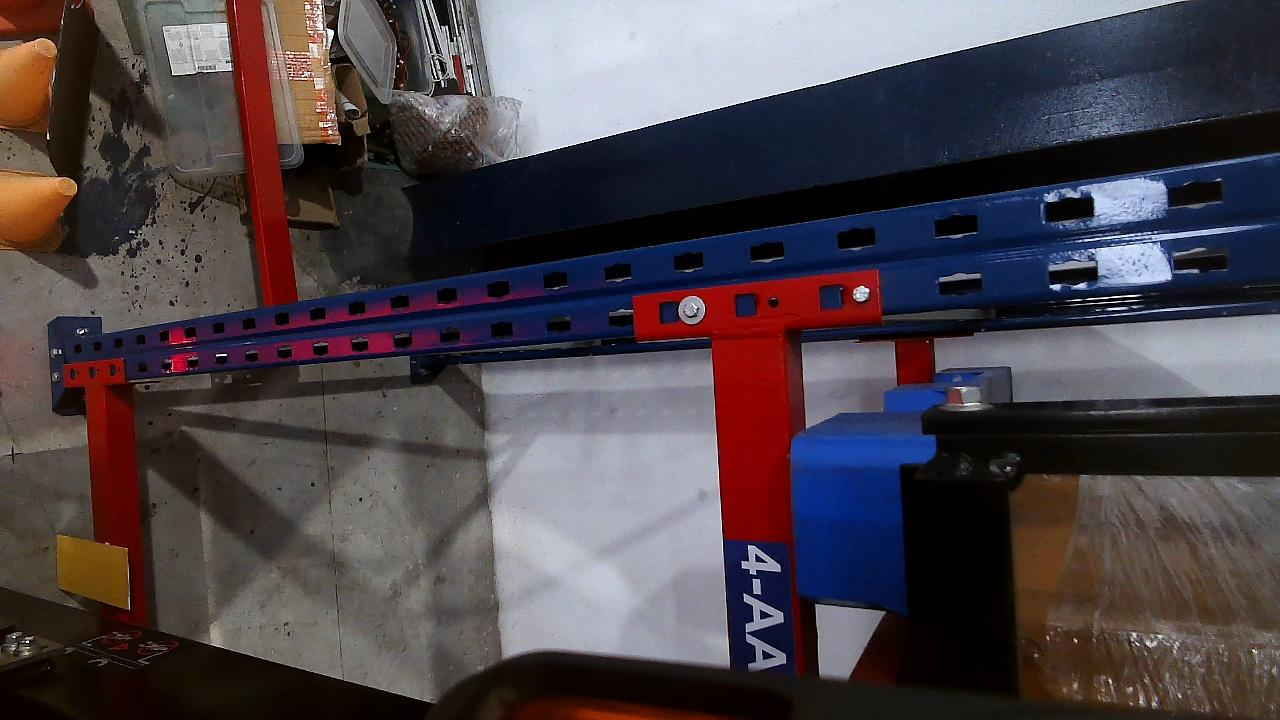h_rack: (710, 332, 797, 675), (84, 383, 148, 613)
orange_strip: (56, 534, 131, 608)
